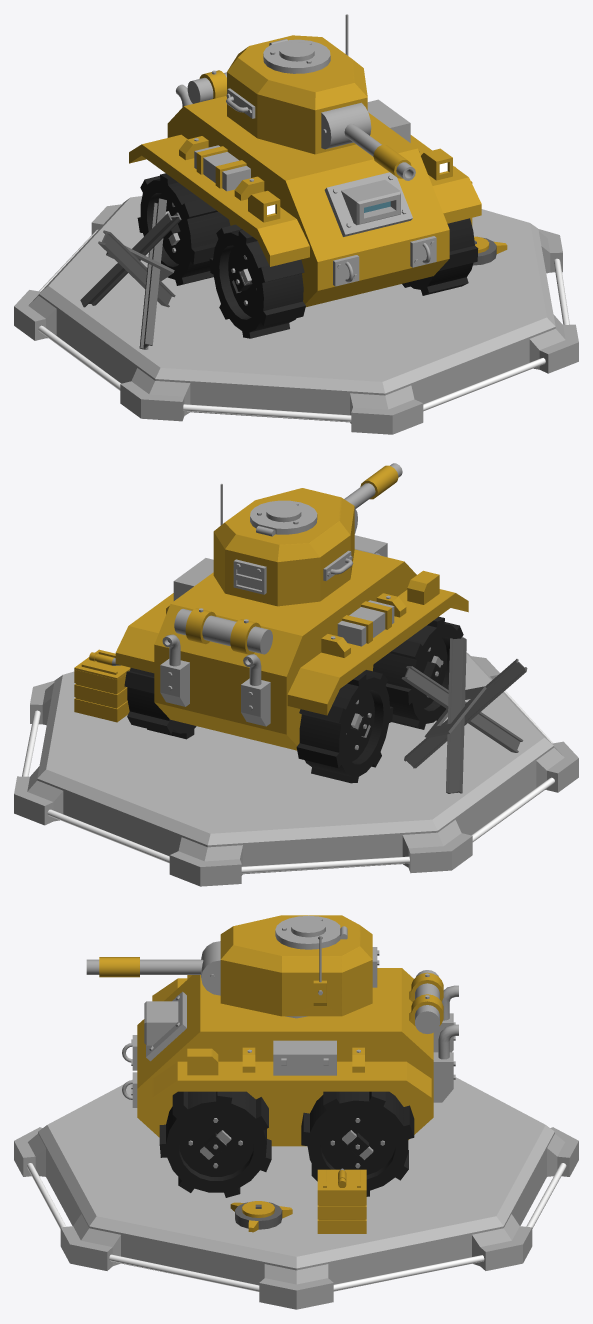
The picture shows the model from 3 angles, top to bottom: view 1: azimuth 30°, elevation 25°; view 2: azimuth 150°, elevation 25°; view 3: azimuth 270°, elevation 25°; orthographic projection.
Parts seen in each view (by area): view 1: TF_Platform, TankFree_Body_01_Mat_Tank_0, TankFree_Tower_01_Mat_Tank_0, TankFree_Wheel_f_right_01_Mat_Tank_0, TankFree_Wheel_b_right_01_Mat_Tank_0, TF_Anti-tank_barrier, TankFree_Wheel_f_left_01_Mat_Tank_0, TankFree_Canon_01_Mat_Tank_0, TF_Mine; view 2: TF_Platform, TankFree_Body_01_Mat_Tank_0, TankFree_Tower_01_Mat_Tank_0, TankFree_Wheel_b_right_01_Mat_Tank_0, TF_Anti-tank_barrier, TankFree_Wheel_f_right_01_Mat_Tank_0, TankFree_Wheel_b_left_01_Mat_Tank_0, TF_Box, TankFree_Canon_01_Mat_Tank_0, TF_Box_Cap; view 3: TF_Platform, TankFree_Body_01_Mat_Tank_0, TankFree_Tower_01_Mat_Tank_0, TankFree_Wheel_f_left_01_Mat_Tank_0, TankFree_Wheel_b_left_01_Mat_Tank_0, TF_Box, TankFree_Canon_01_Mat_Tank_0, TF_Mine, TF_Box_Cap.
Boxes of the visible parts, x1,y1,x2,y2 form: TF_Platform: [14, 196, 578, 434]; TankFree_Body_01_Mat_Tank_0: [129, 70, 481, 306]; TankFree_Tower_01_Mat_Tank_0: [226, 14, 371, 154]; TankFree_Wheel_f_right_01_Mat_Tank_0: [209, 224, 305, 338]; TankFree_Wheel_b_right_01_Mat_Tank_0: [137, 173, 230, 285]; TF_Anti-tank_barrier: [80, 198, 181, 349]; TankFree_Wheel_f_left_01_Mat_Tank_0: [402, 218, 478, 295]; TankFree_Canon_01_Mat_Tank_0: [344, 123, 415, 180]; TF_Mine: [473, 236, 507, 265]; TF_Platform: [14, 652, 578, 886]; TankFree_Body_01_Mat_Tank_0: [115, 535, 468, 750]; TankFree_Tower_01_Mat_Tank_0: [213, 483, 357, 606]; TankFree_Wheel_b_right_01_Mat_Tank_0: [296, 670, 393, 783]; TF_Anti-tank_barrier: [401, 637, 527, 793]; TankFree_Wheel_f_right_01_Mat_Tank_0: [373, 616, 463, 729]; TankFree_Wheel_b_left_01_Mat_Tank_0: [124, 668, 196, 739]; TF_Box: [74, 669, 129, 722]; TankFree_Canon_01_Mat_Tank_0: [344, 463, 402, 508]; TF_Box_Cap: [74, 649, 130, 679]; TF_Platform: [14, 1077, 578, 1309]; TankFree_Body_01_Mat_Tank_0: [122, 968, 458, 1146]; TankFree_Tower_01_Mat_Tank_0: [201, 915, 379, 1018]; TankFree_Wheel_f_left_01_Mat_Tank_0: [159, 1091, 271, 1197]; TankFree_Wheel_b_left_01_Mat_Tank_0: [301, 1091, 414, 1196]; TF_Box: [317, 1192, 366, 1233]; TankFree_Canon_01_Mat_Tank_0: [86, 957, 203, 977]; TF_Mine: [230, 1201, 292, 1232]; TF_Box_Cap: [317, 1169, 366, 1191].
Size of the model in its own units: 43.55 by 24.15 by 44.67.
Materials: 3 (3 with a texture image).
